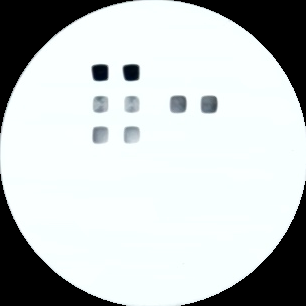检查点: (121, 125, 145, 146), (89, 63, 110, 83), (91, 125, 111, 145), (169, 94, 188, 114), (199, 95, 219, 114), (122, 63, 141, 82), (91, 95, 110, 114), (123, 96, 141, 114)
